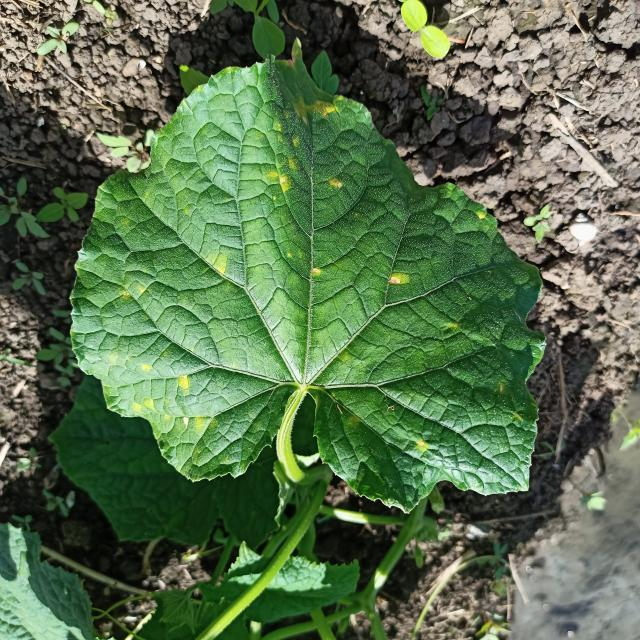disease_cucumber: (268, 95, 344, 195), (132, 360, 212, 430), (387, 272, 412, 288), (212, 256, 229, 277), (307, 264, 326, 278), (415, 438, 428, 450)
